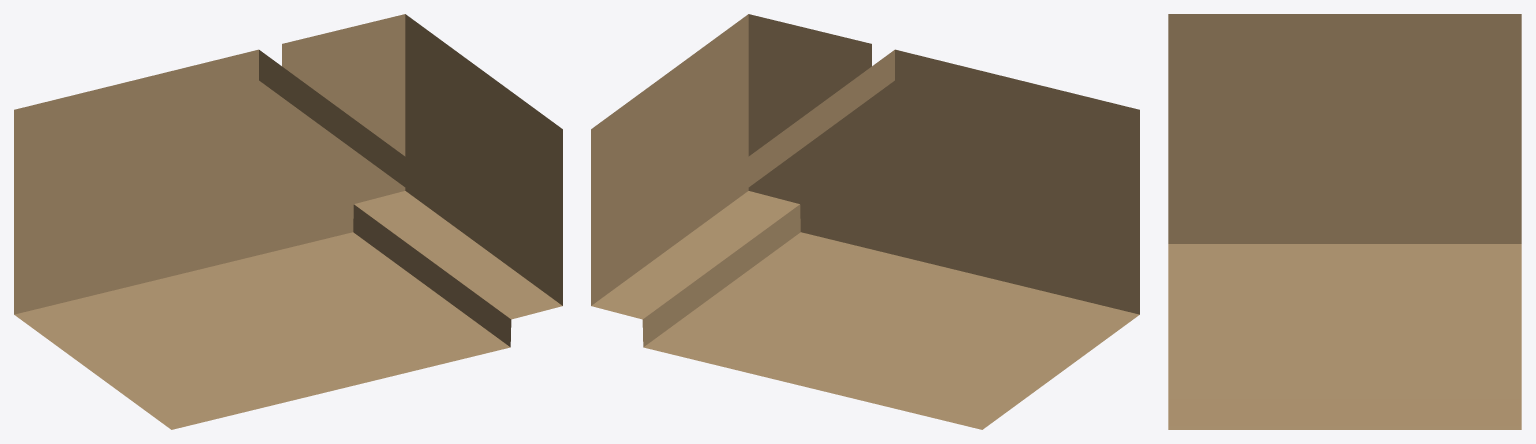
3 renders of one model, left to right at view 1: azimuth 30°, elevation 25°; view 2: azimuth 150°, elevation 25°; view 3: azimuth 270°, elevation 25°, orthographic. The views are drawn at different scales.
Visible parts, largest first — view 1: 0_0_1_1_3_3_2_0_3; view 2: 0_0_1_1_3_3_2_0_3; view 3: 0_0_1_1_3_3_2_0_3.
Boxes of the visible parts, box(x1,y1,x2,y2) form: 0_0_1_1_3_3_2_0_3: box(14, 14, 562, 429); 0_0_1_1_3_3_2_0_3: box(591, 14, 1139, 429); 0_0_1_1_3_3_2_0_3: box(1168, 14, 1521, 429).
Size of the model in its own units: 38.73 by 19.45 by 27.
